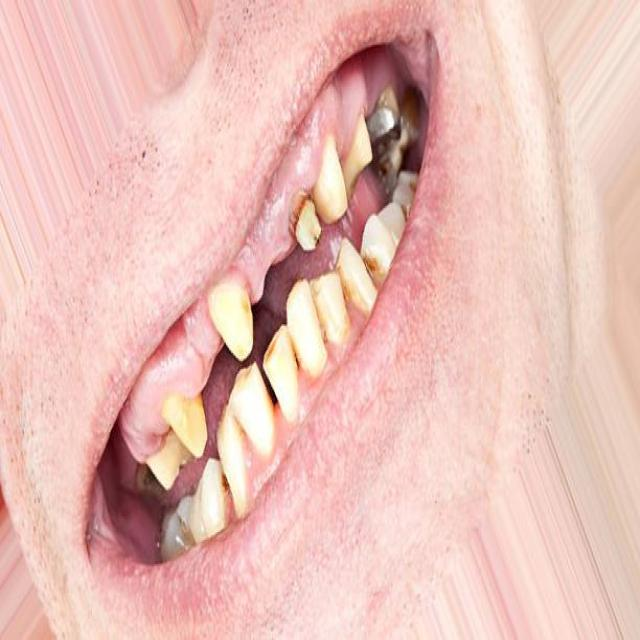caries: (285, 189, 326, 260), (366, 84, 404, 148)
